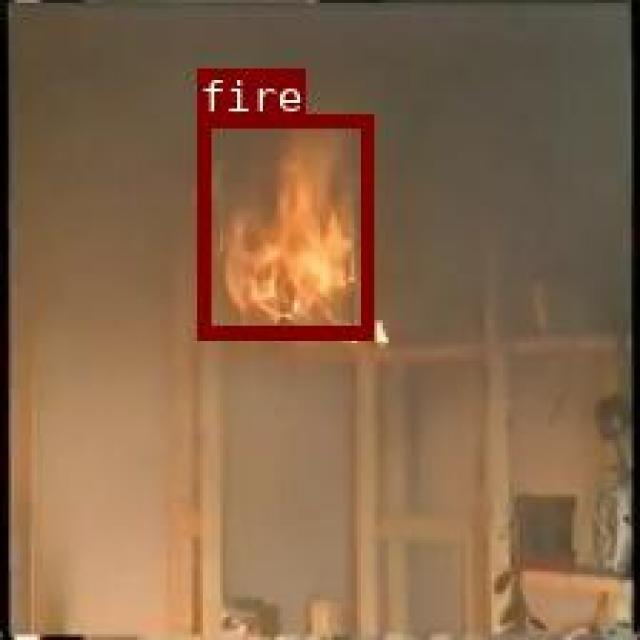fire: (196, 114, 369, 335)
